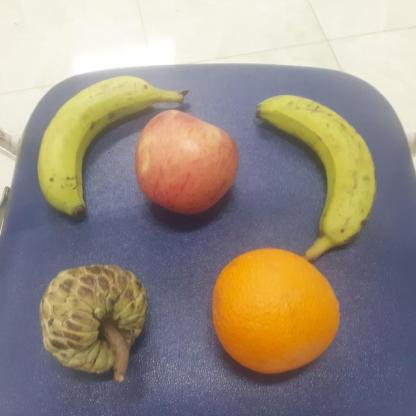annona: (40, 264, 148, 371)
apple: (136, 109, 240, 214)
banana: (37, 76, 186, 216), (255, 93, 378, 247)
orange: (210, 246, 341, 372)
